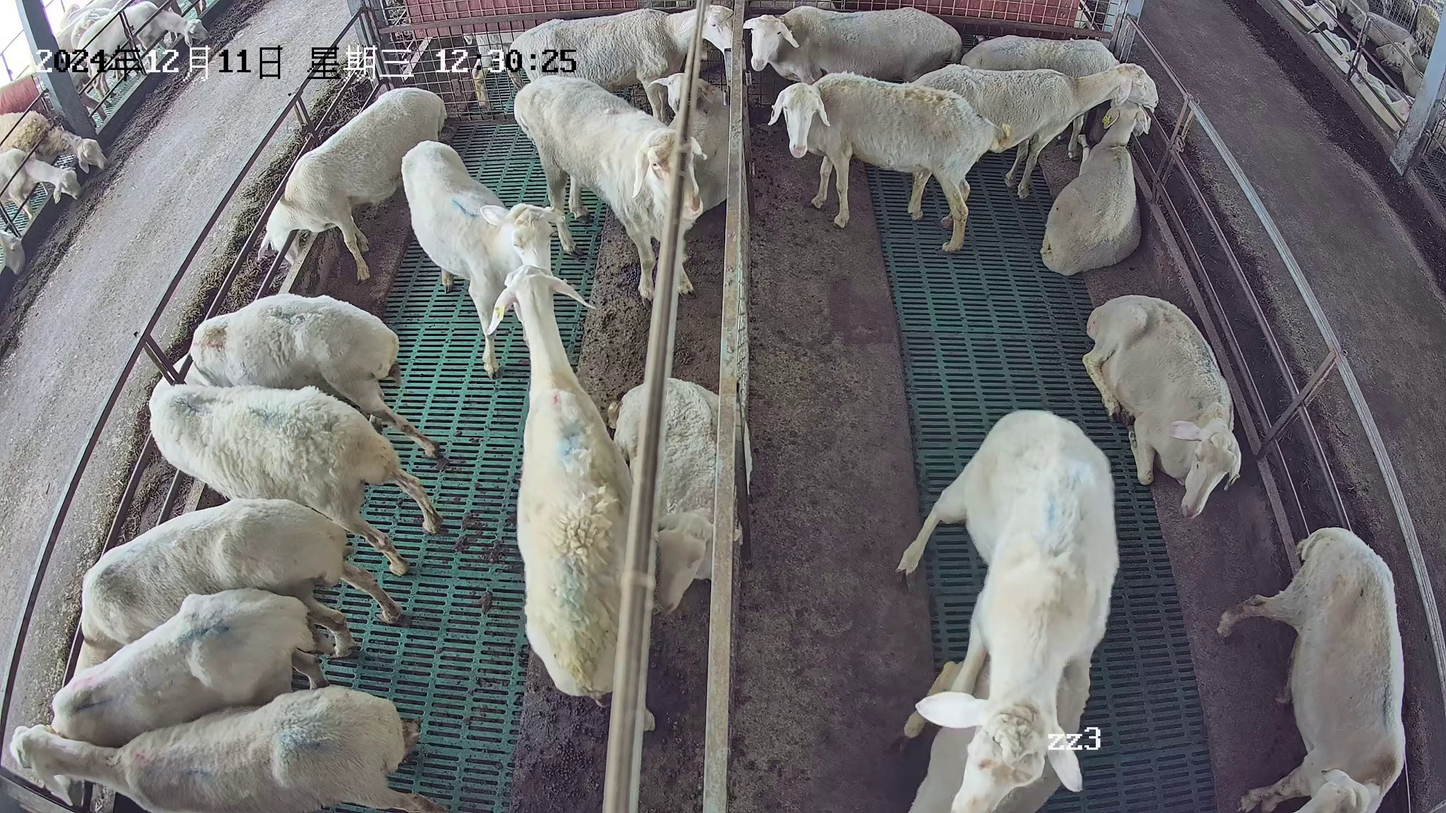Smounting: (894, 406, 1121, 813)
mounted: (901, 654, 1095, 813)
